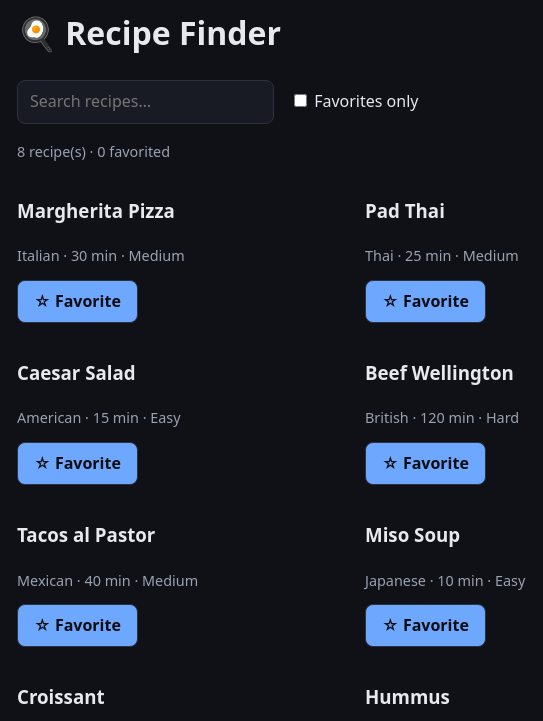
Test: Recipe Finder › toggles a favorite and can filter to favorites only
Check: the heading "Miso Soup" is shown, box [365,522,460,547]
Favorite the first recipe (getAllByRole throws if none, so [0] exists).
Click the button "☆ Favorite" below "Italian" at (77, 301), box [17,280,138,323]
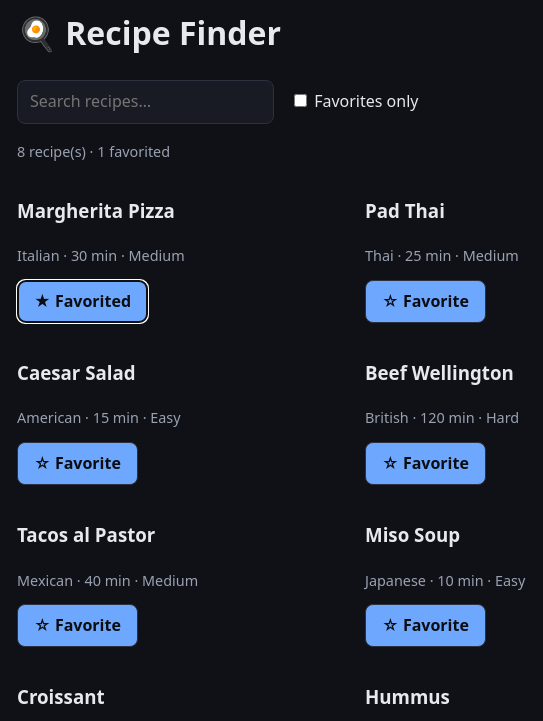
Click the checkbox labelled "Favorites only" at (300, 101), box [294,94,307,107]
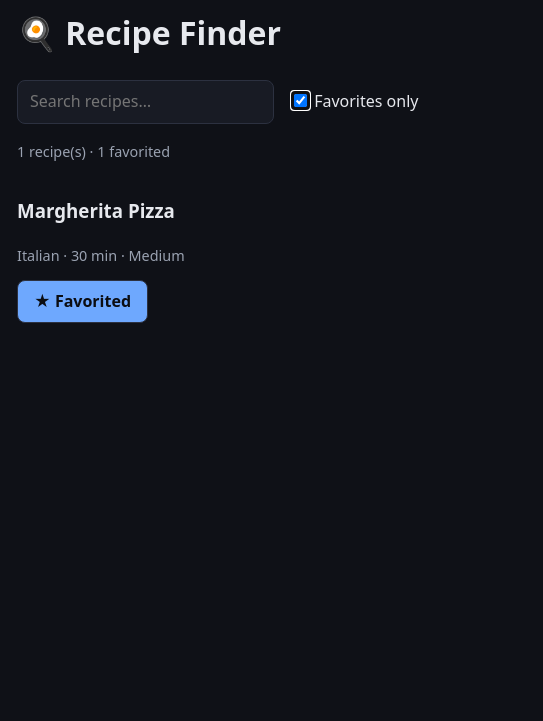
Check: the number of buttons "★ Favorited" is 1, box [17,280,148,323]
